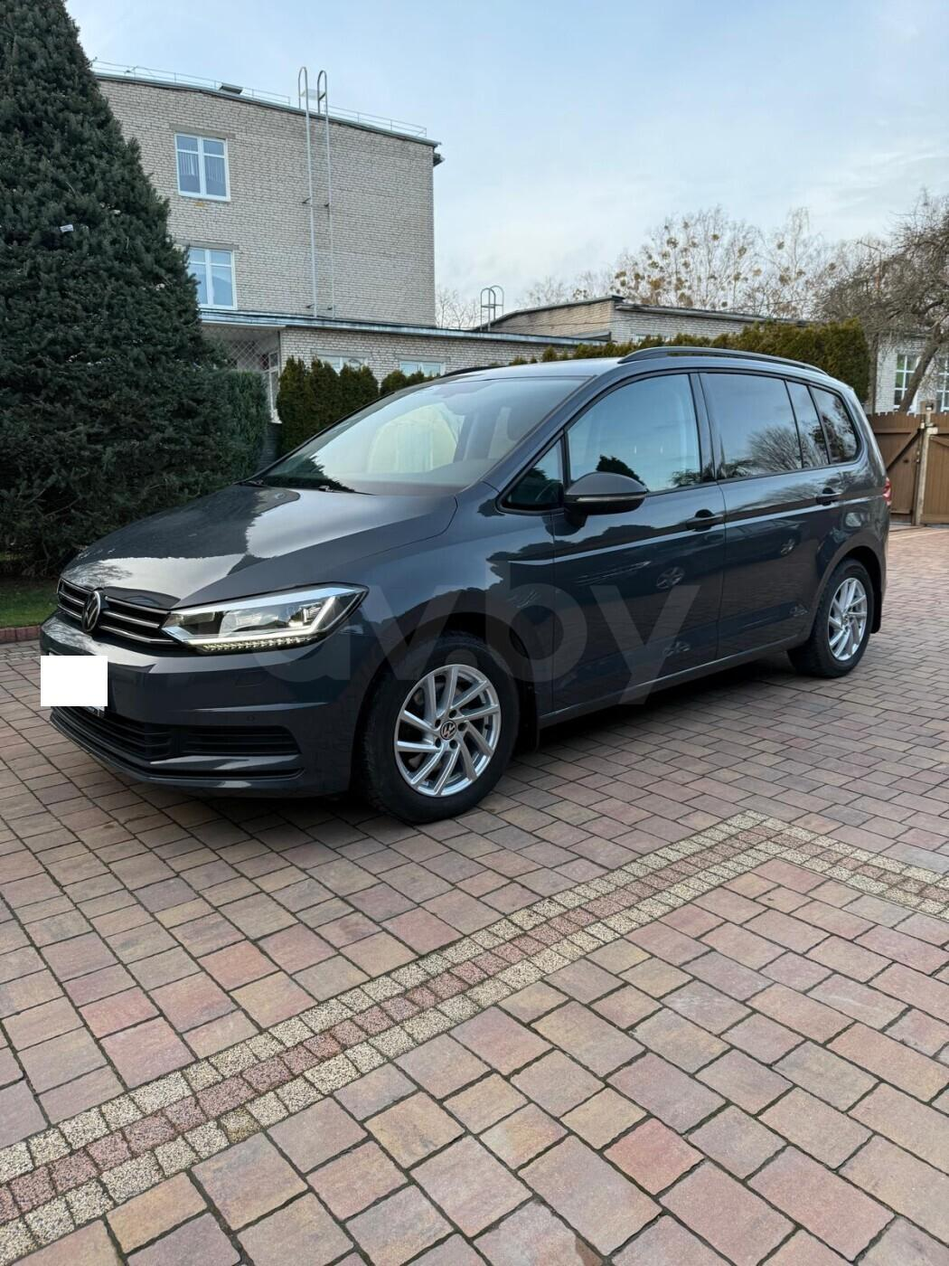Touran_2015: (29, 344, 898, 830)
